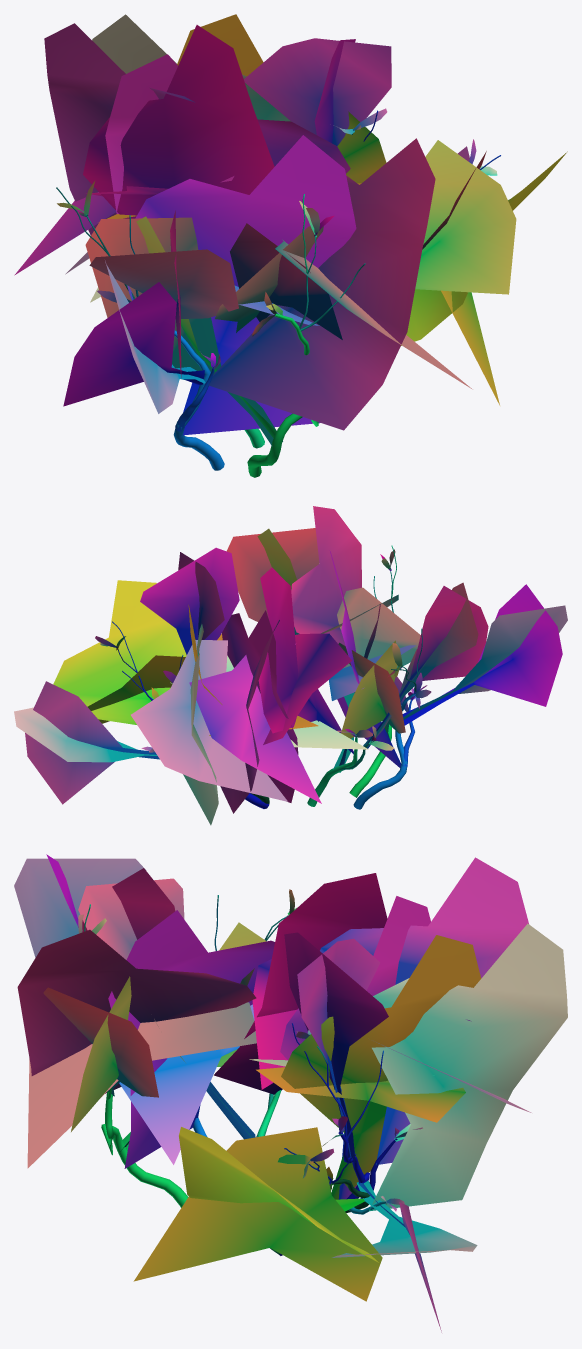
The model's file is Downy_Willow_wknlfiuqx_Mid_wknlfiuqx_VarI_LOD2.fbx.
3 views of the same model, one above another, from view 1: azimuth 30°, elevation 25°; view 2: azimuth 150°, elevation 25°; view 3: azimuth 270°, elevation 25° (orthographic). The views are drawn at different scales.
Parts seen in each view (by area): view 1: _ou9b_VarI_LOD3; view 2: _ou9b_VarI_LOD3; view 3: _ou9b_VarI_LOD3.
Part boxes in pixels (x1,y1,x2,y2): _ou9b_VarI_LOD3: (14, 14, 567, 477); _ou9b_VarI_LOD3: (14, 506, 567, 825); _ou9b_VarI_LOD3: (14, 854, 567, 1332).
Bounding box in the file's own units: 154 × 93.93 × 130.
